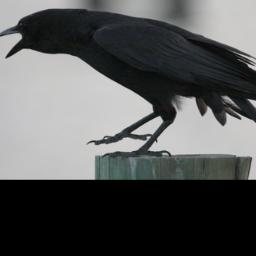Crow: (0, 7, 256, 160)
